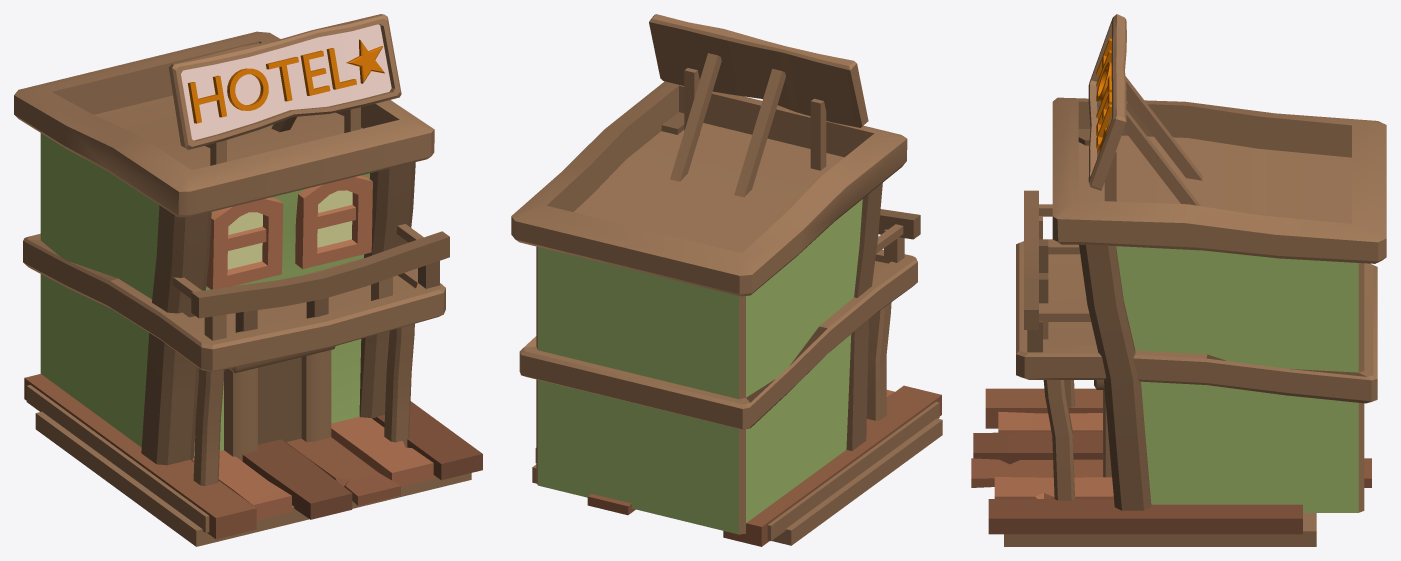
The model's file is Hotel.fbx.
3 renders of one model, left to right at view 1: azimuth 30°, elevation 25°; view 2: azimuth 150°, elevation 25°; view 3: azimuth 270°, elevation 25°, orthographic. The views are drawn at different scales.
Parts seen in each view (by area): view 1: Cube.018; view 2: Cube.018; view 3: Cube.018.
Boxes of the visible parts, left/top/right/bottom form: Cube.018: left=14, top=14, right=482, bottom=546; Cube.018: left=511, top=14, right=942, bottom=546; Cube.018: left=971, top=14, right=1386, bottom=546.
Size of the model in its own units: 434 by 641 by 576.
